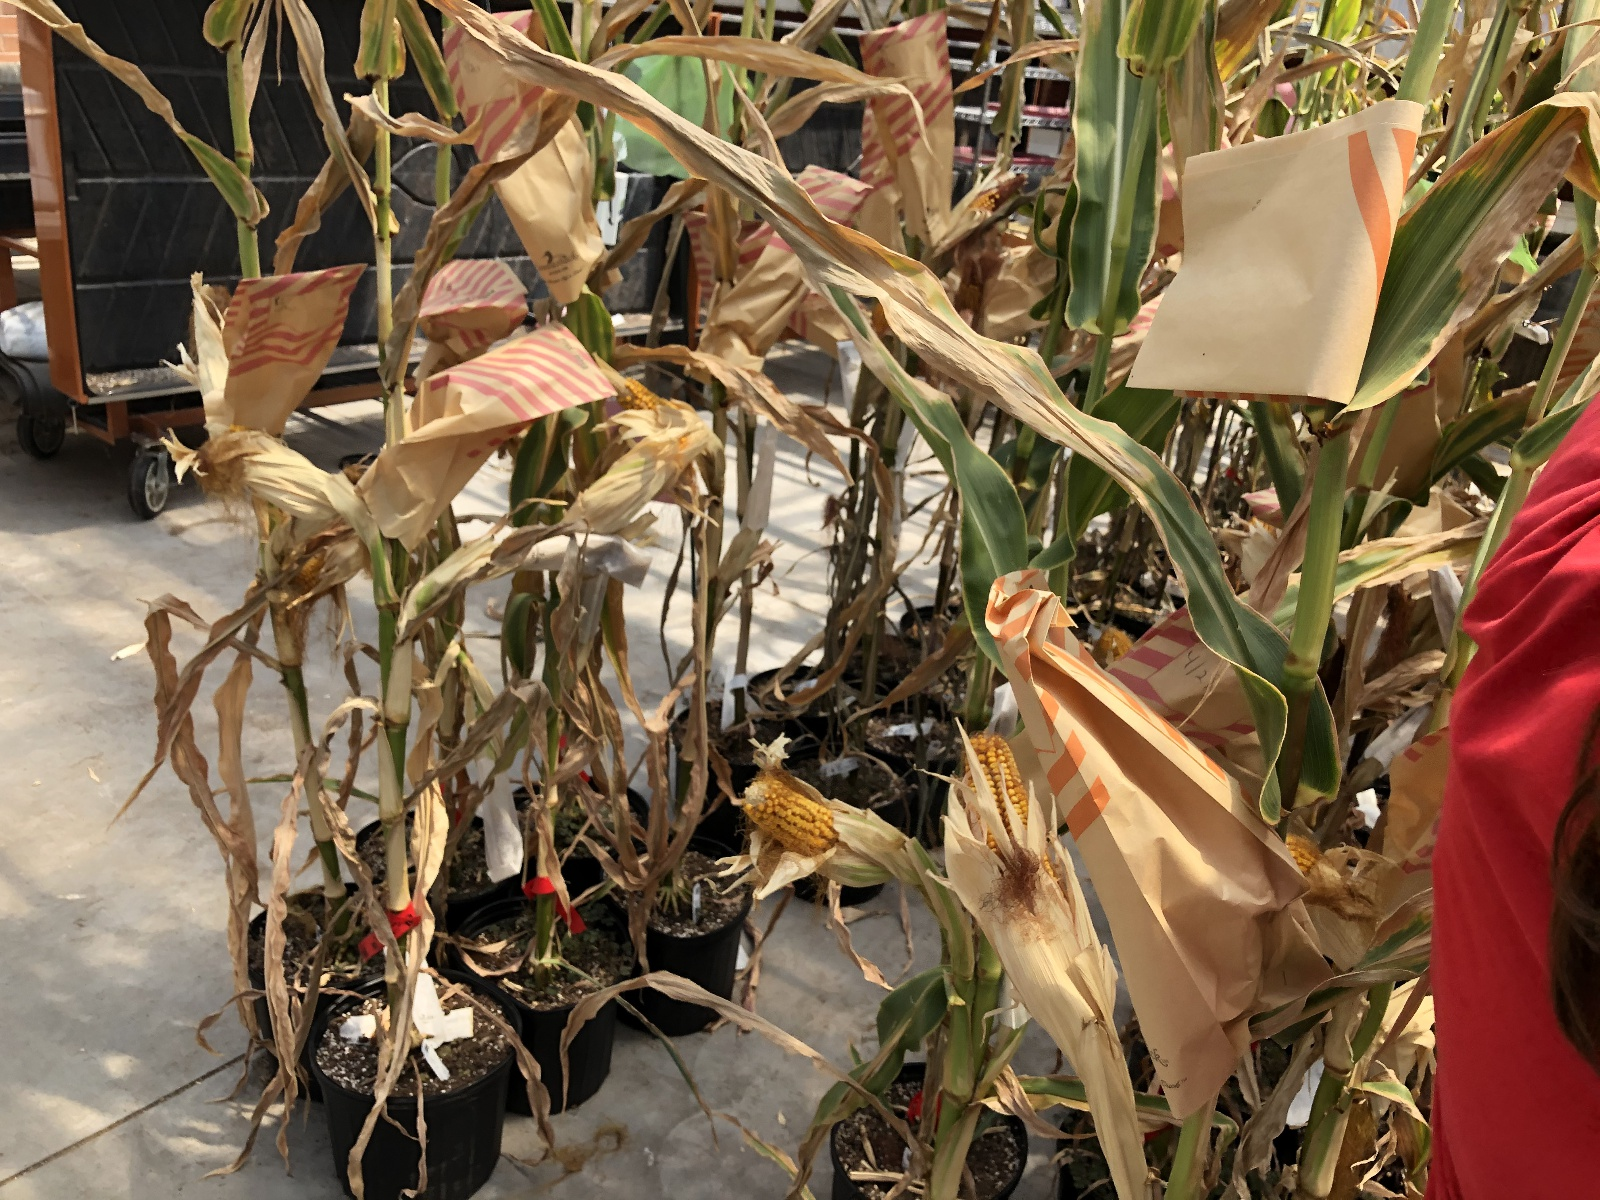ear: (946, 717, 1107, 1008), (734, 766, 905, 879), (593, 333, 724, 468), (1280, 823, 1364, 904), (952, 166, 1036, 228), (292, 529, 340, 592), (1099, 614, 1138, 666)
